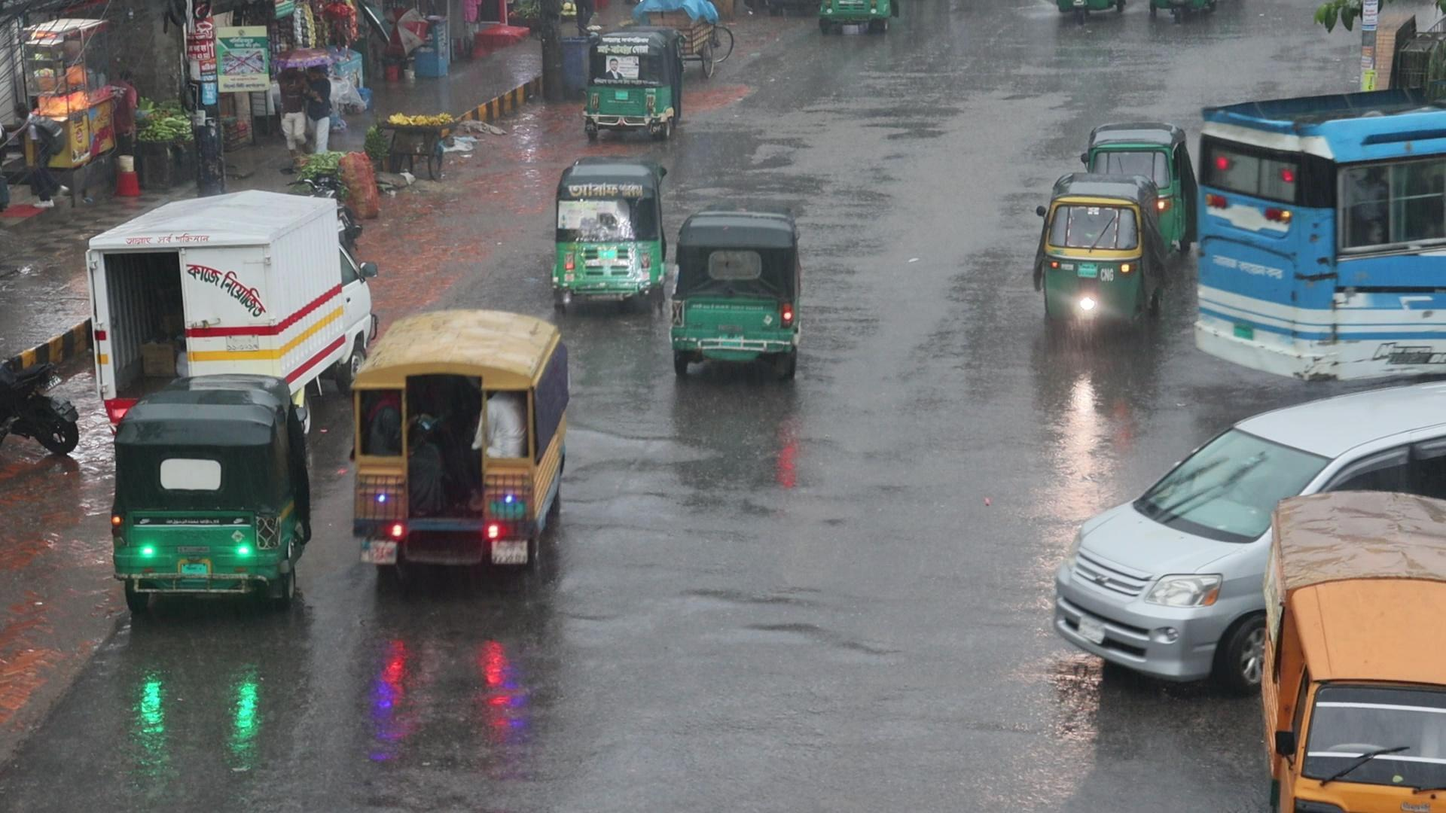Bus: (1191, 96, 1446, 398)
Car: (1051, 373, 1446, 690)
Truck: (335, 298, 587, 588), (1256, 473, 1446, 813)
